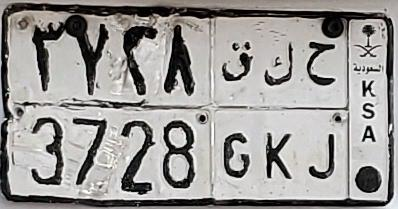2: (120, 24, 158, 196)
3: (30, 22, 65, 187)
7: (72, 22, 108, 186)
8: (162, 22, 196, 190)
G: (221, 40, 254, 179)
J: (305, 40, 337, 180)
K: (263, 41, 295, 180)
